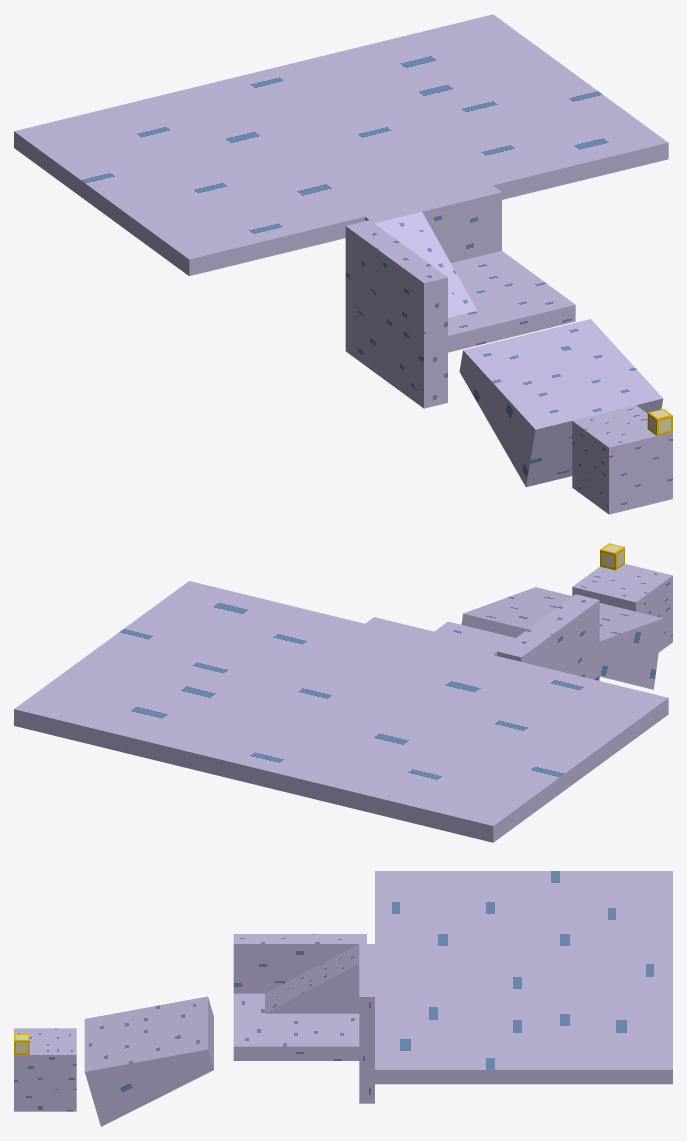
The model's file is testmap.gltf.
3 views of the same model, one above another, from view 1: azimuth 30°, elevation 25°; view 2: azimuth 150°, elevation 25°; view 3: azimuth 270°, elevation 25° (orthographic). The views are drawn at different scales.
Visible parts, largest first — view 1: bigfloor, bigramp, wall2, start, floor, wall, ramp; view 2: bigfloor, bigramp, wall2, start, wall, floor, prop; view 3: bigfloor, bigramp, floor, wall2, start, ramp, wall.
Part boxes in pixels (bbox=[...]): bigfloor: bbox=[14, 14, 668, 276]; bigramp: bbox=[459, 319, 663, 487]; wall2: bbox=[345, 220, 447, 408]; start: bbox=[572, 405, 672, 514]; floor: bbox=[448, 251, 575, 352]; wall: bbox=[365, 185, 501, 262]; ramp: bbox=[374, 212, 477, 317]; bigfloor: bbox=[14, 581, 668, 842]; bigramp: bbox=[461, 587, 663, 689]; wall2: bbox=[497, 594, 599, 680]; start: bbox=[572, 564, 672, 652]; wall: bbox=[365, 617, 501, 655]; floor: bbox=[434, 621, 515, 647]; prop: bbox=[600, 543, 624, 570]; bigfloor: bbox=[375, 871, 672, 1084]; bigramp: bbox=[84, 996, 213, 1126]; floor: bbox=[233, 993, 359, 1060]; wall2: bbox=[233, 934, 366, 993]; start: bbox=[14, 1028, 76, 1111]; ramp: bbox=[265, 944, 359, 1013]; wall: bbox=[359, 944, 374, 1103].
Bounding box in the file's own units: 3.75 × 1.14 × 5.25.
Materials: 1 (1 with a texture image).
